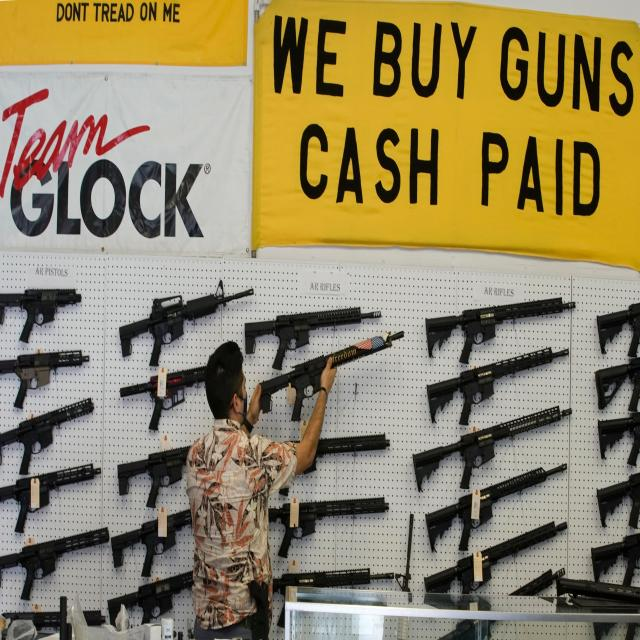Rifle: (119, 289, 255, 433), (260, 332, 405, 422), (413, 407, 563, 493), (425, 465, 567, 554), (427, 349, 569, 427), (424, 522, 568, 595), (426, 298, 576, 364), (244, 307, 383, 371), (0, 529, 110, 601), (0, 399, 94, 477), (0, 465, 102, 536), (269, 498, 389, 555), (111, 508, 192, 579), (0, 351, 83, 411), (118, 447, 192, 511), (107, 572, 194, 626), (0, 290, 82, 343)
